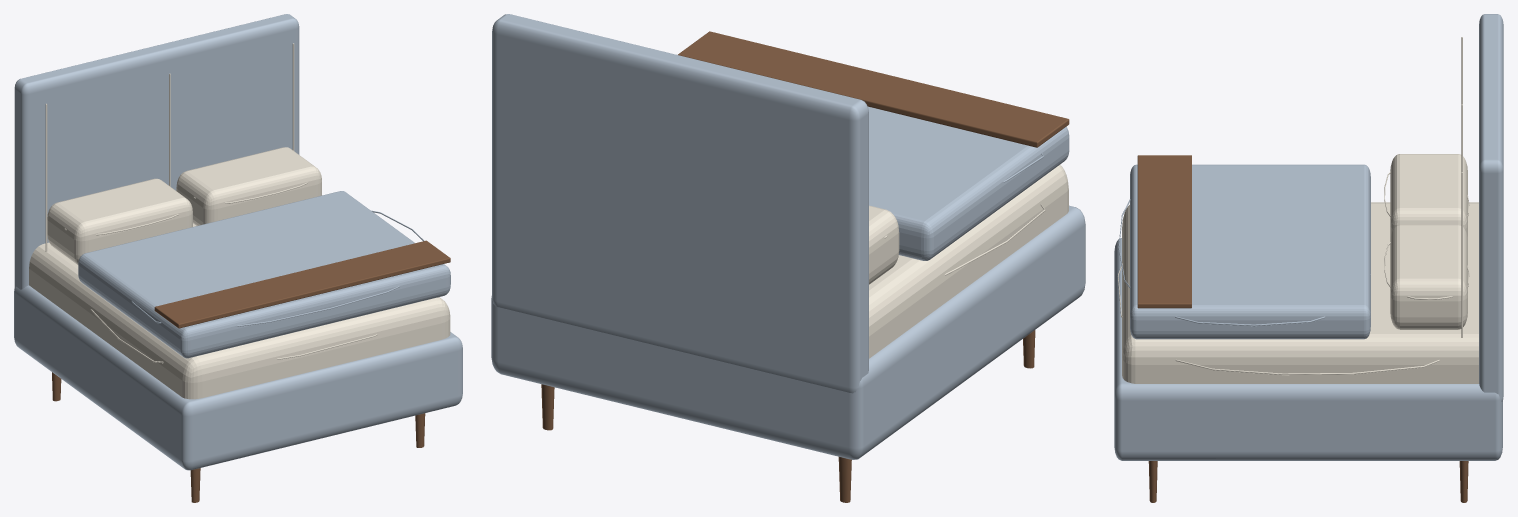
Rendered from bed-2-2.glb.
The picture shows the model from 3 angles, left to right: view 1: azimuth 30°, elevation 25°; view 2: azimuth 150°, elevation 25°; view 3: azimuth 270°, elevation 25°; orthographic projection. The views are drawn at different scales.
Visible parts, largest first — view 1: upholstery, tailored-cushion, part; view 2: upholstery, part, tailored-cushion; view 3: upholstery, tailored-cushion, part.
Part boxes in pixels (left/top/right/bottom): upholstery: left=14, top=14, right=462, bottom=470; tailored-cushion: left=29, top=43, right=450, bottom=399; part: left=52, top=240, right=450, bottom=502; upholstery: left=491, top=14, right=1085, bottom=459; part: left=541, top=31, right=1069, bottom=502; tailored-cushion: left=869, top=165, right=1068, bottom=358; upholstery: left=1114, top=14, right=1503, bottom=460; tailored-cushion: left=1117, top=37, right=1478, bottom=383; part: left=1137, top=155, right=1468, bottom=502.
Bounding box in the file's own units: 1 × 1 × 1.
